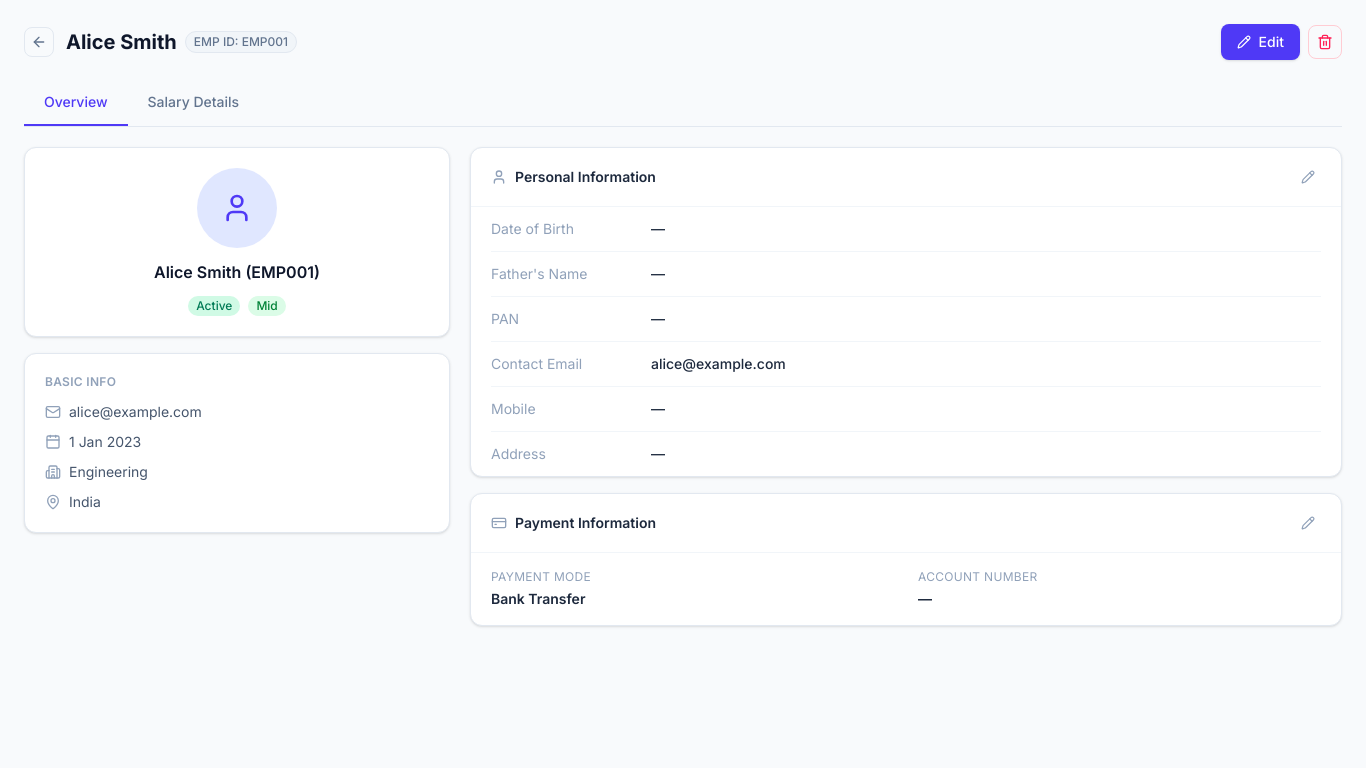
Test: EmployeeDetailPage › switches to Salary Details tab
The image size is (1366, 768).
Step 1. Click the button "Salary Details" → (193, 103), box x1=128 y1=80 x2=259 y2=126
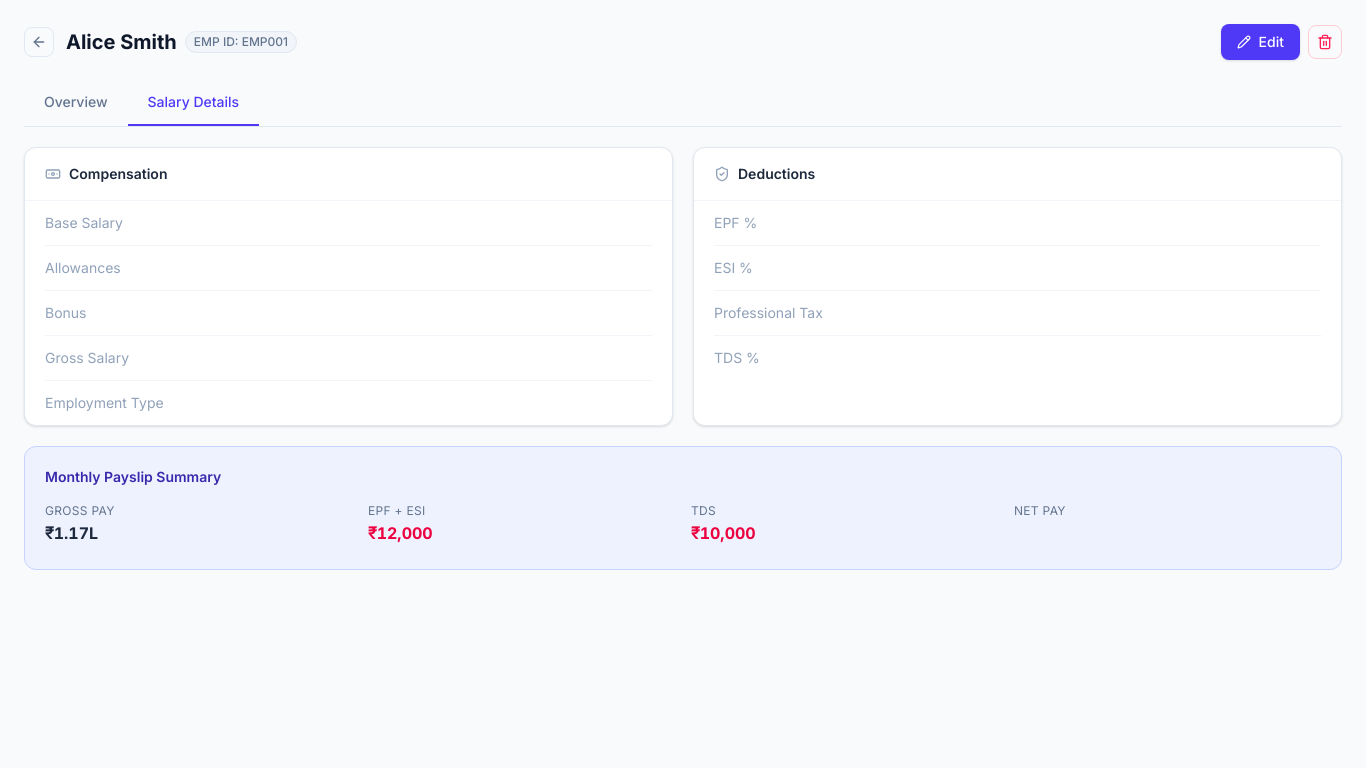
Expected: the heading "Compensation" is shown, x1=69 y1=164 x2=168 y2=184
Expected: the heading "Monthly Payslip Summary" is shown, x1=45 y1=468 x2=221 y2=485
Expected: the heading "Deductions" is shown, x1=738 y1=164 x2=815 y2=184
